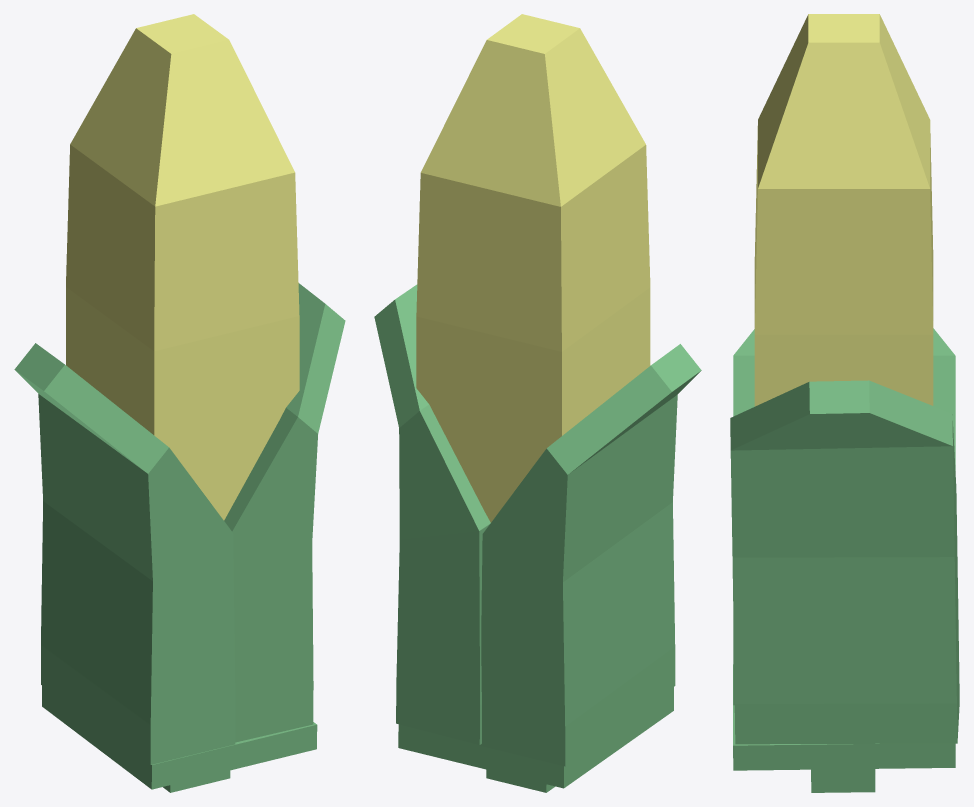
The model's file is corn.gltf.
The picture shows the model from 3 angles, left to right: view 1: azimuth 30°, elevation 25°; view 2: azimuth 150°, elevation 25°; view 3: azimuth 270°, elevation 25°; orthographic projection.
Visible parts, largest first — view 1: Cube; view 2: Cube; view 3: Cube.
Part boxes in pixels (x1,y1,x2,y2): Cube: (14,14,345,792); Cube: (374,14,701,792); Cube: (730,14,959,792).
Size of the model in its own units: 4.07 by 9.62 by 2.67.
Materials: 1 (1 with a texture image).
